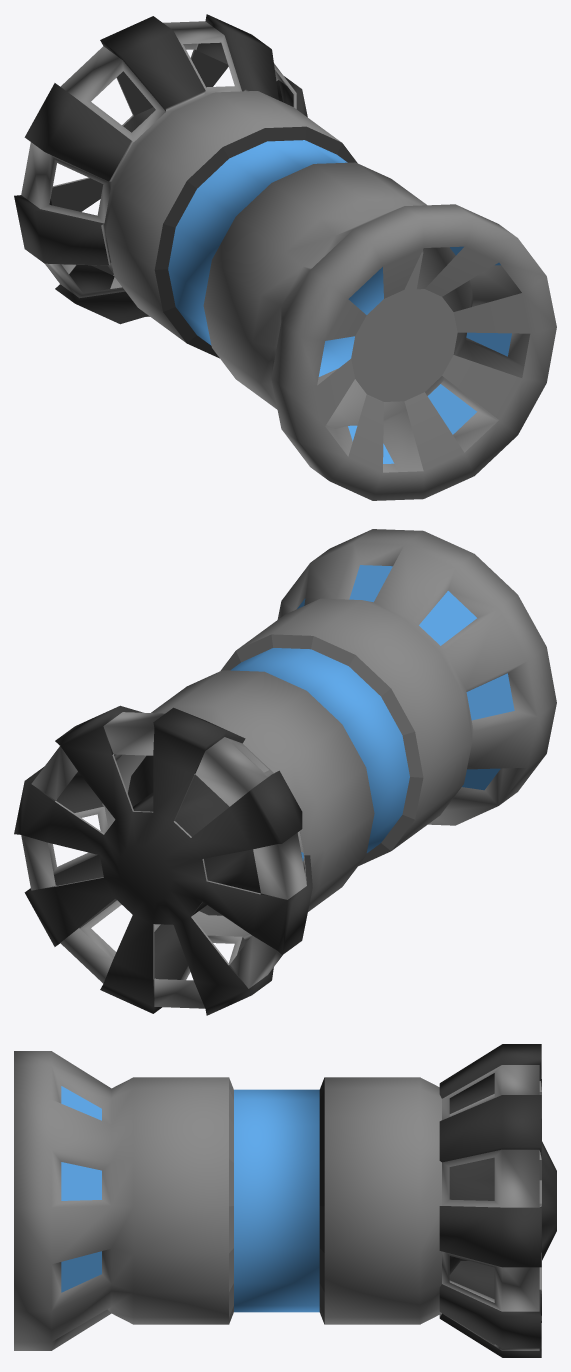
File: Engine.fbx
3 renders of one model, top to bottom at view 1: azimuth 30°, elevation 25°; view 2: azimuth 150°, elevation 25°; view 3: azimuth 270°, elevation 25°, orthographic. The views are drawn at different scales.
Visible parts, largest first — view 1: Engine, Top; view 2: Engine, Top; view 3: Engine, Top.
Part boxes in pixels (<box>): Engine: <box>101,89,556,500</box>; Top: <box>14,14,307,324</box>; Engine: <box>101,529,556,940</box>; Top: <box>14,705,312,1015</box>; Engine: <box>14,1051,441,1350</box>; Top: <box>439,1044,556,1357</box>.
Bounding box in the file's own units: 209 × 209 × 362.
